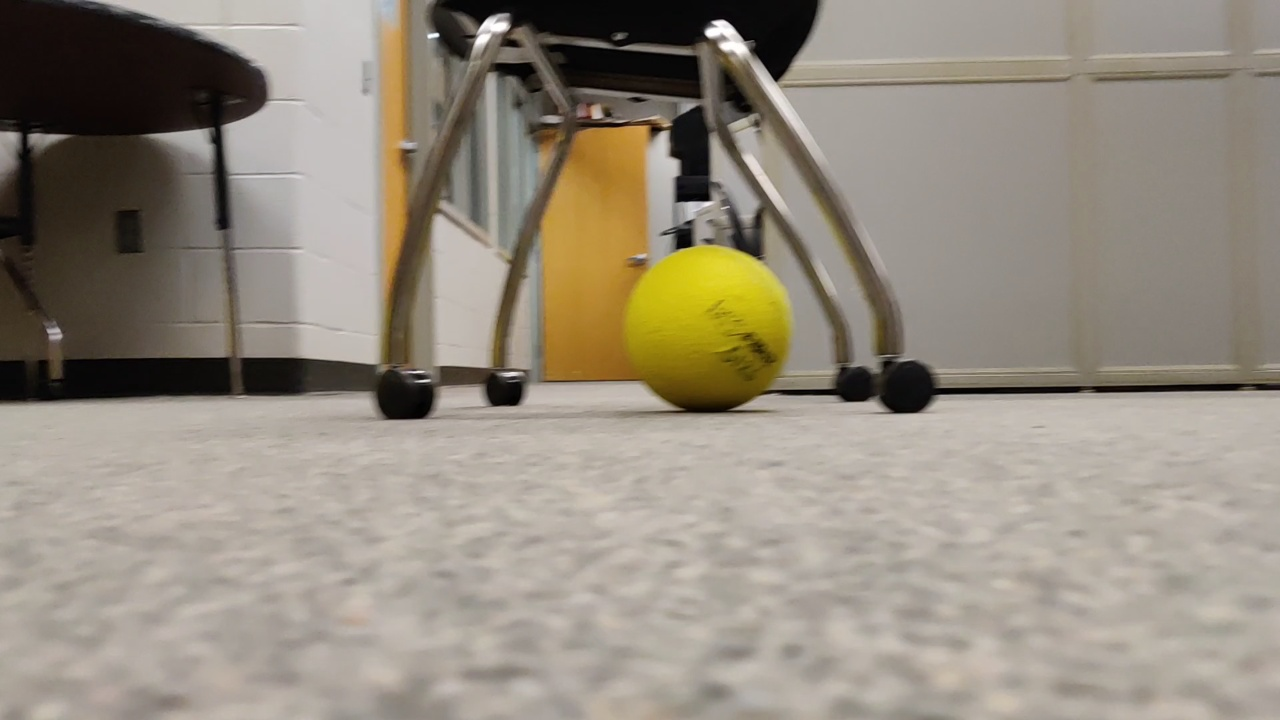Ball: (638, 246, 789, 421)
